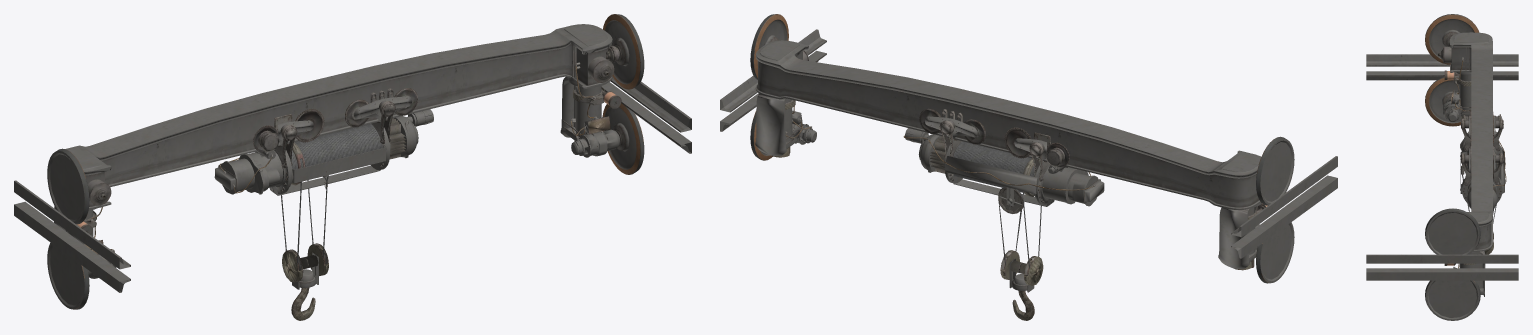
Rendered from overhead_crane.glb.
The picture shows the model from 3 angles, left to right: view 1: azimuth 30°, elevation 25°; view 2: azimuth 150°, elevation 25°; view 3: azimuth 270°, elevation 25°; orthographic projection. The views are drawn at different scales.
Visible parts, largest first — view 1: overhead_crane, overhead_crane_winch, overhead_crane_rails; view 2: overhead_crane, overhead_crane_winch, overhead_crane_rails; view 3: overhead_crane, overhead_crane_rails, overhead_crane_winch.
Part boxes in pixels (bbox=[...]): overhead_crane: bbox=[47, 14, 644, 309]; overhead_crane_winch: bbox=[214, 88, 433, 320]; overhead_crane_rails: bbox=[14, 77, 691, 292]; overhead_crane: bbox=[750, 14, 1294, 283]; overhead_crane_winch: bbox=[903, 108, 1104, 320]; overhead_crane_rails: bbox=[720, 29, 1337, 258]; overhead_crane: bbox=[1425, 14, 1492, 320]; overhead_crane_rails: bbox=[1366, 54, 1518, 280]; overhead_crane_winch: bbox=[1460, 112, 1506, 254].
Size of the model in its own units: 12.49 by 5.13 by 4.
2 materials, 2 textured.
